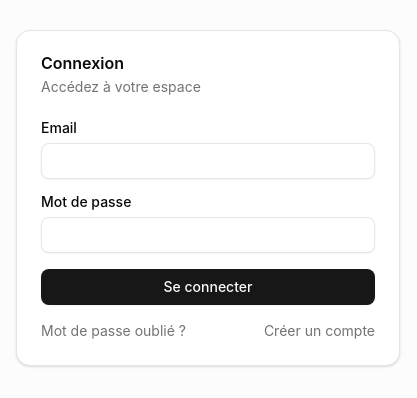
LoginPage › bloque la soumission et affiche l'erreur Zod si l'email n'est pas valide
The image size is (417, 398).
In the field labelled "Email": (208,161) [41,143,375,179], type "pas-un-email"
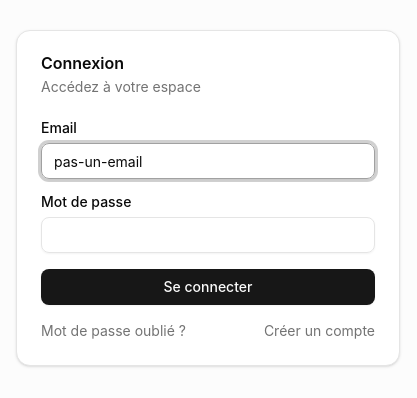
In the password field labelled "Mot de passe": (208,235) [41,217,375,253], type "password123"
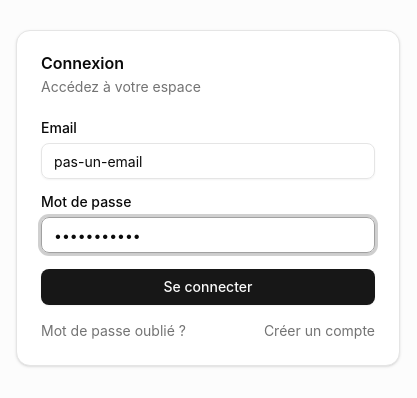
Click the button "Se connecter": (208,287) [41,269,375,305]
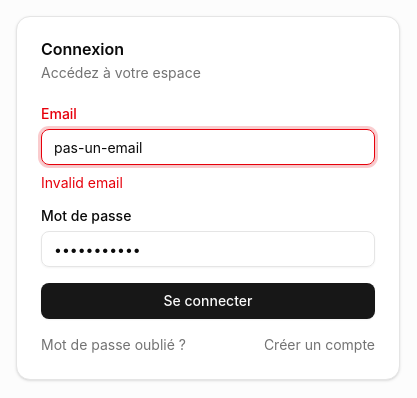
Now the text "Invalid email" is shown, box [41,174,123,191]
